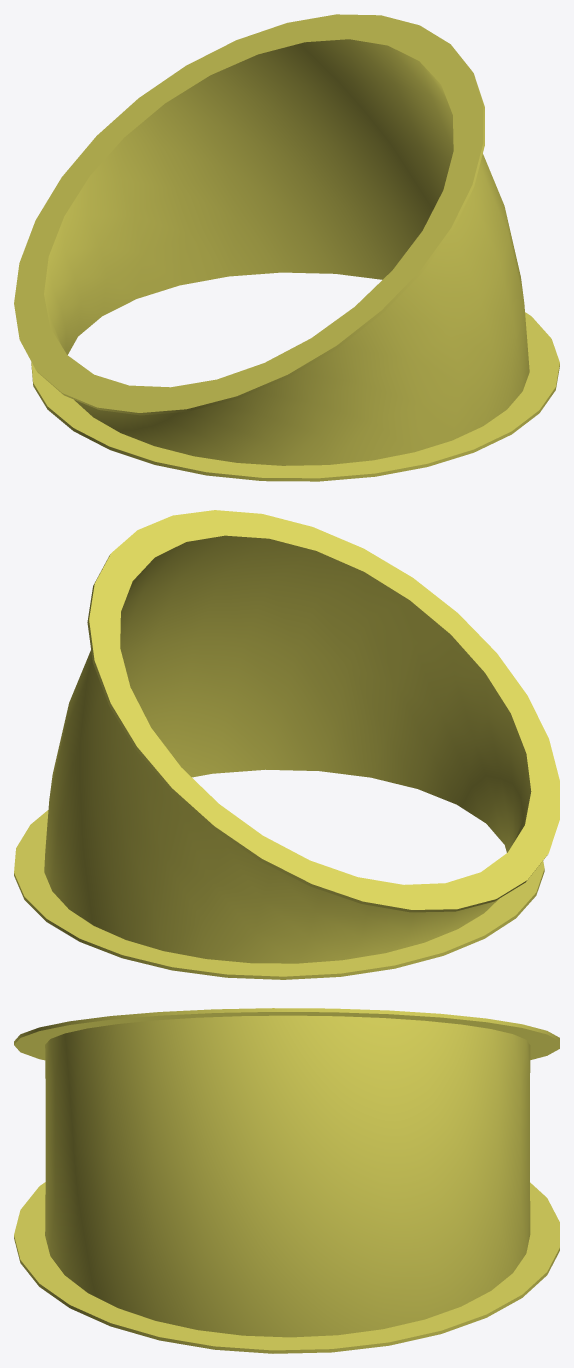
File: model-curved-32.fbx
3 views of the same model, one above another, from view 1: azimuth 30°, elevation 25°; view 2: azimuth 150°, elevation 25°; view 3: azimuth 270°, elevation 25° (orthographic). The views are drawn at different scales.
Visible parts, largest first — view 1: RŤr-dreje-32 simple.001; view 2: RŤr-dreje-32 simple.001; view 3: RŤr-dreje-32 simple.001.
Part boxes in pixels (left/top/right/bottom): RŤr-dreje-32 simple.001: left=14, top=14, right=559, bottom=481; RŤr-dreje-32 simple.001: left=14, top=510, right=559, bottom=979; RŤr-dreje-32 simple.001: left=14, top=1008, right=559, bottom=1353.
Bounding box in the file's own units: 90.02 × 54.07 × 87.74.
